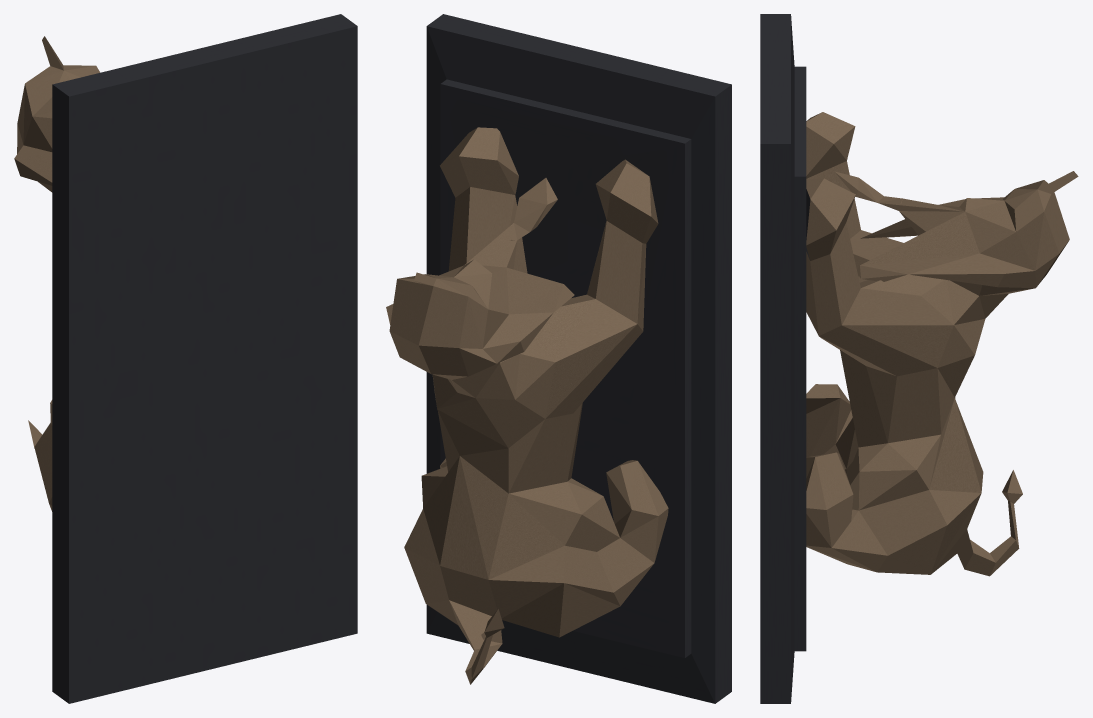
The model's file is desert_symbol_parao.FBX.
3 views of the same model, side by side, from view 1: azimuth 30°, elevation 25°; view 2: azimuth 150°, elevation 25°; view 3: azimuth 270°, elevation 25° (orthographic). The views are drawn at different scales.
Parts seen in each view (by area): view 1: desert_statue_1; view 2: desert_statue_1; view 3: desert_statue_1.
Part boxes in pixels (x1,y1,x2,y2): desert_statue_1: (14, 14, 357, 703); desert_statue_1: (386, 14, 731, 703); desert_statue_1: (760, 14, 1078, 703).
Size of the model in its own units: 267 by 538 by 277.
